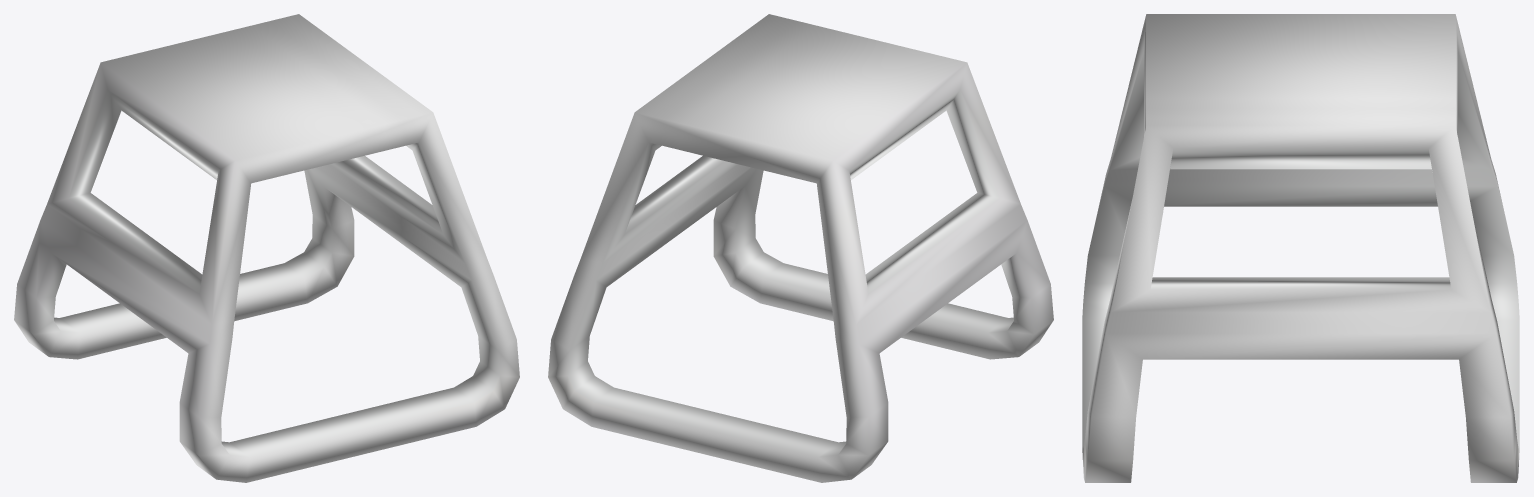
Rendered from DirtBikeStandLight.glb.
3 renders of one model, left to right at view 1: azimuth 30°, elevation 25°; view 2: azimuth 150°, elevation 25°; view 3: azimuth 270°, elevation 25°, orthographic. The views are drawn at different scales.
Visible parts, largest first — view 1: DirtBikeStandLight; view 2: DirtBikeStandLight; view 3: DirtBikeStandLight.
Boxes of the visible parts, <box> form: DirtBikeStandLight: <box>14,14,519,482</box>; DirtBikeStandLight: <box>548,14,1053,482</box>; DirtBikeStandLight: <box>1082,14,1519,482</box>.
Bounding box in the file's own units: 0.5023 × 0.4466 × 0.5154.
Materials: 1 (1 with a texture image).
